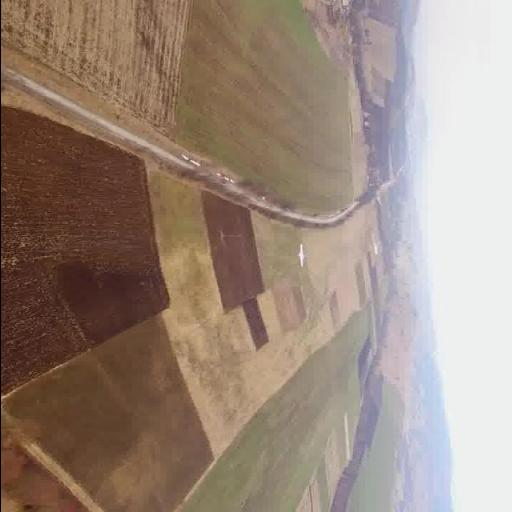uav: (286, 243, 316, 264)
